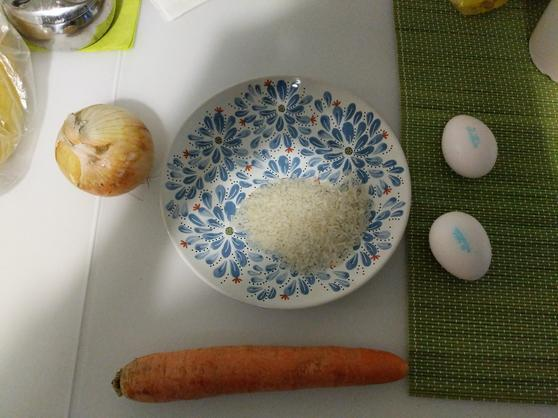carrot: (105, 318, 417, 416)
egg: (419, 205, 497, 284), (435, 109, 507, 181)
onion: (50, 96, 157, 207)
rice: (217, 162, 381, 280)
